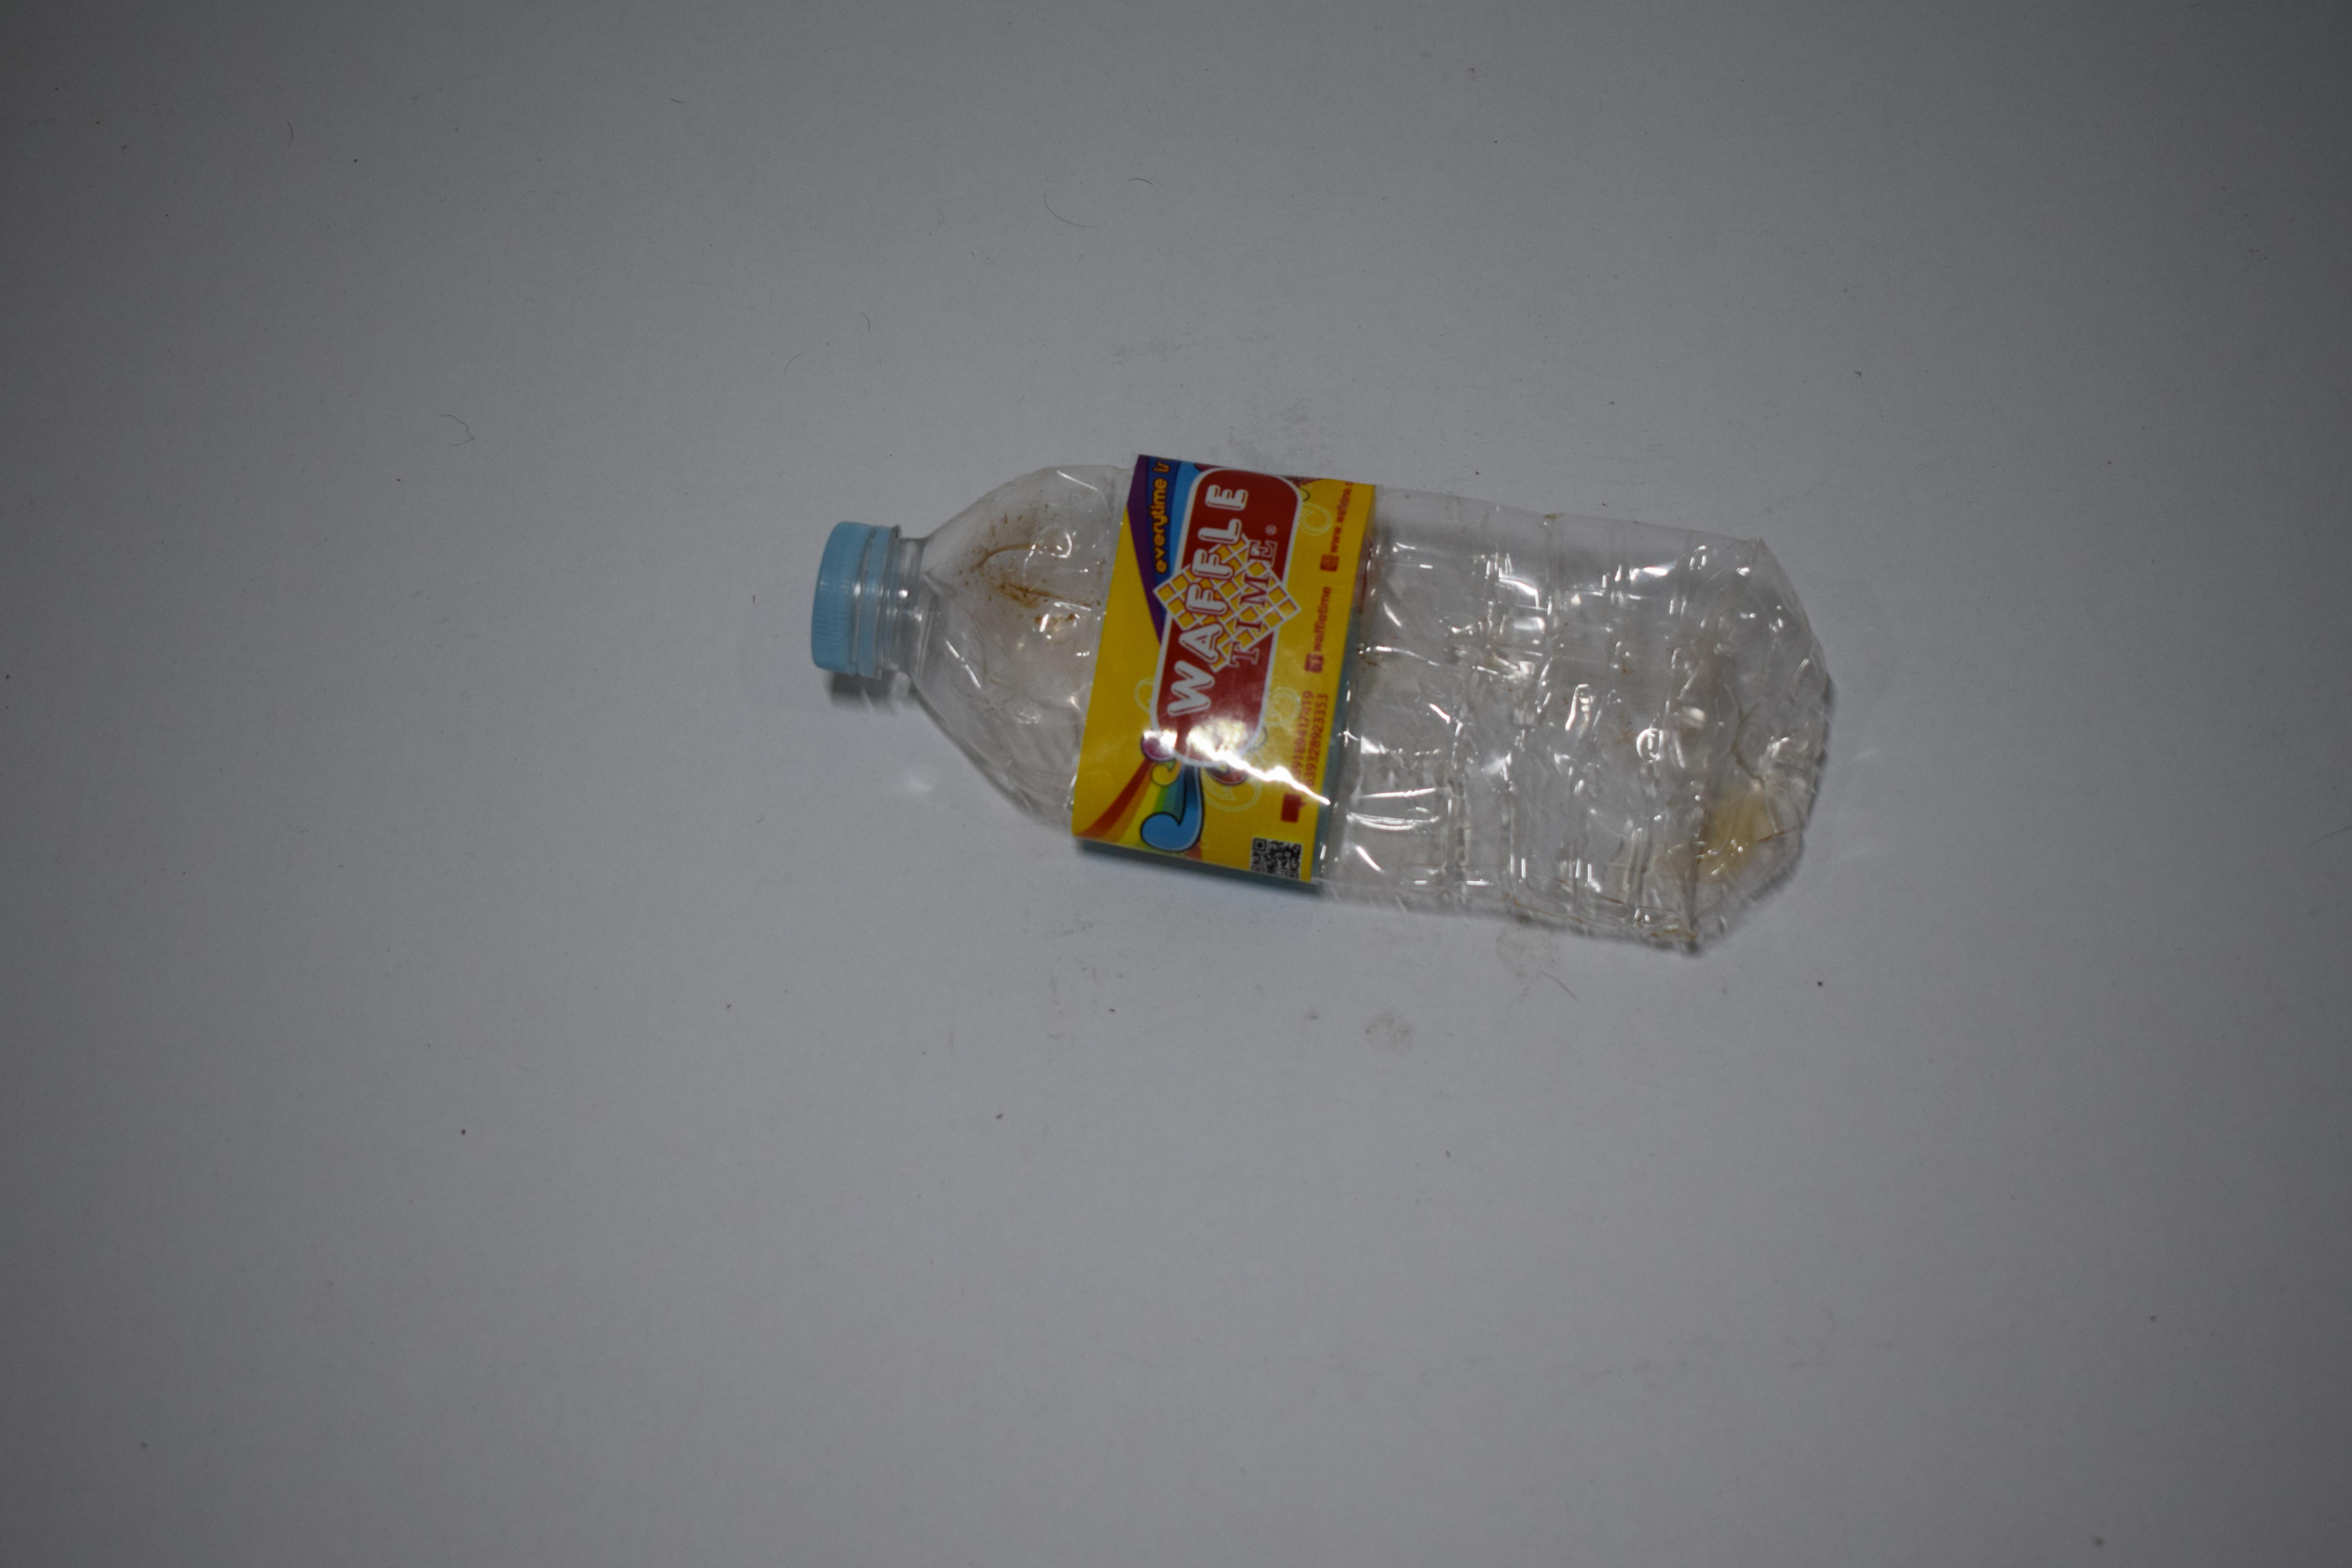bottle: (0, 431, 667, 949)
